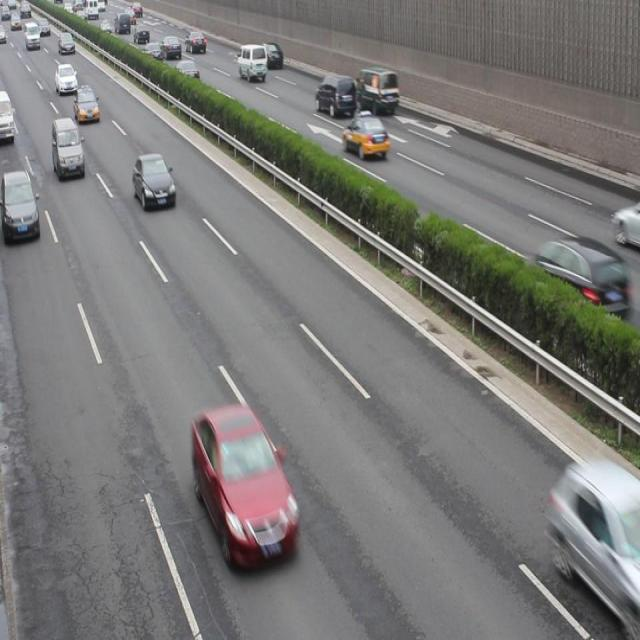car: (192, 405, 300, 567), (526, 240, 630, 322), (0, 171, 40, 243), (132, 153, 176, 208), (342, 112, 389, 159), (612, 202, 640, 246), (74, 84, 101, 122), (56, 64, 78, 95), (260, 42, 281, 68), (175, 59, 199, 81), (160, 34, 181, 57), (185, 31, 206, 54), (143, 41, 163, 62), (60, 34, 76, 56), (134, 24, 149, 44)
truck: (52, 116, 84, 180), (354, 68, 398, 112), (314, 75, 354, 116), (238, 45, 266, 78), (1, 90, 15, 141)
